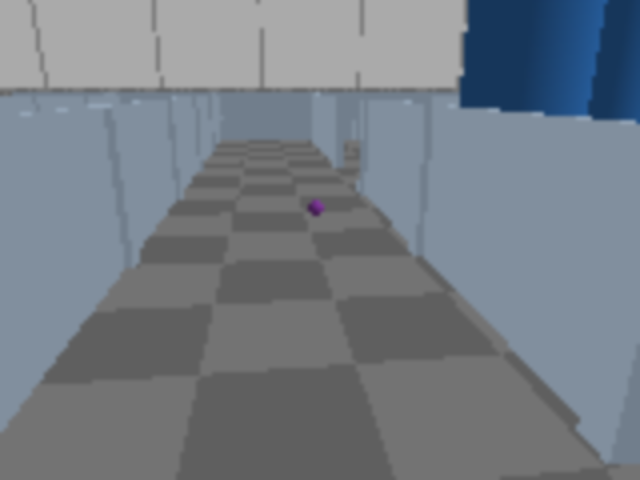puck: (306, 199, 327, 219)
